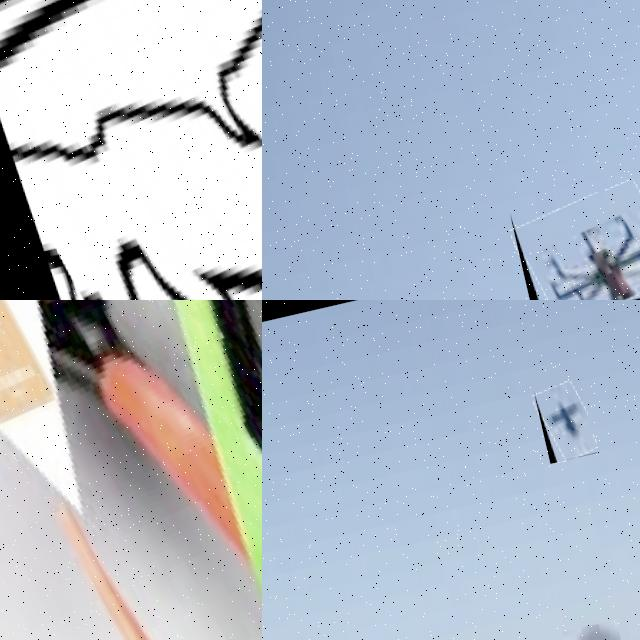drone: (0, 300, 262, 640), (0, 0, 262, 300), (509, 180, 640, 300), (533, 379, 597, 464)
